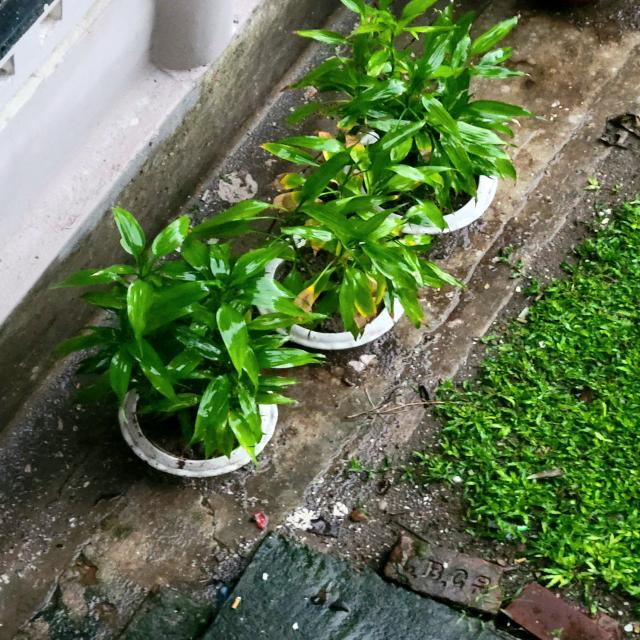Breeding Place: (285, 130, 640, 640), (0, 371, 293, 640), (61, 208, 292, 501), (298, 0, 524, 263), (227, 113, 432, 377)
